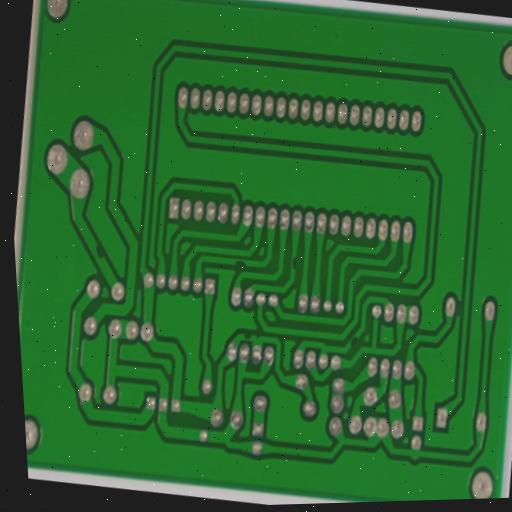mouse_bite: (89, 242, 109, 262), (231, 255, 251, 272), (286, 253, 303, 272), (345, 331, 360, 352), (239, 329, 256, 344)
